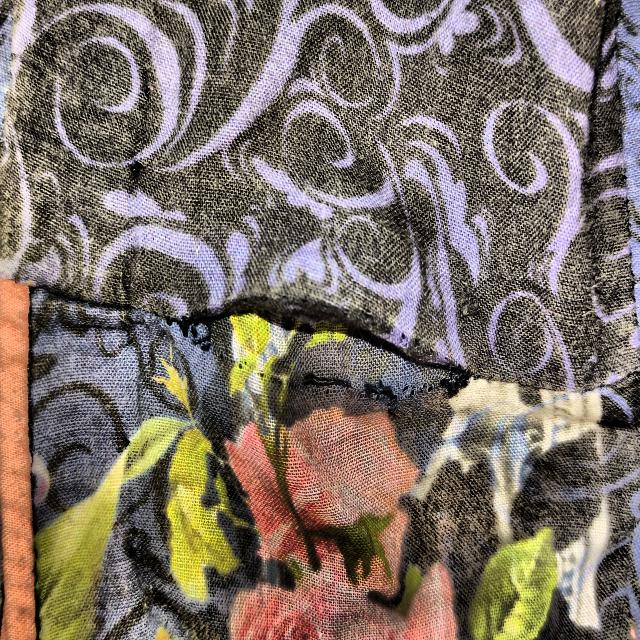seam: (159, 264, 485, 424)
